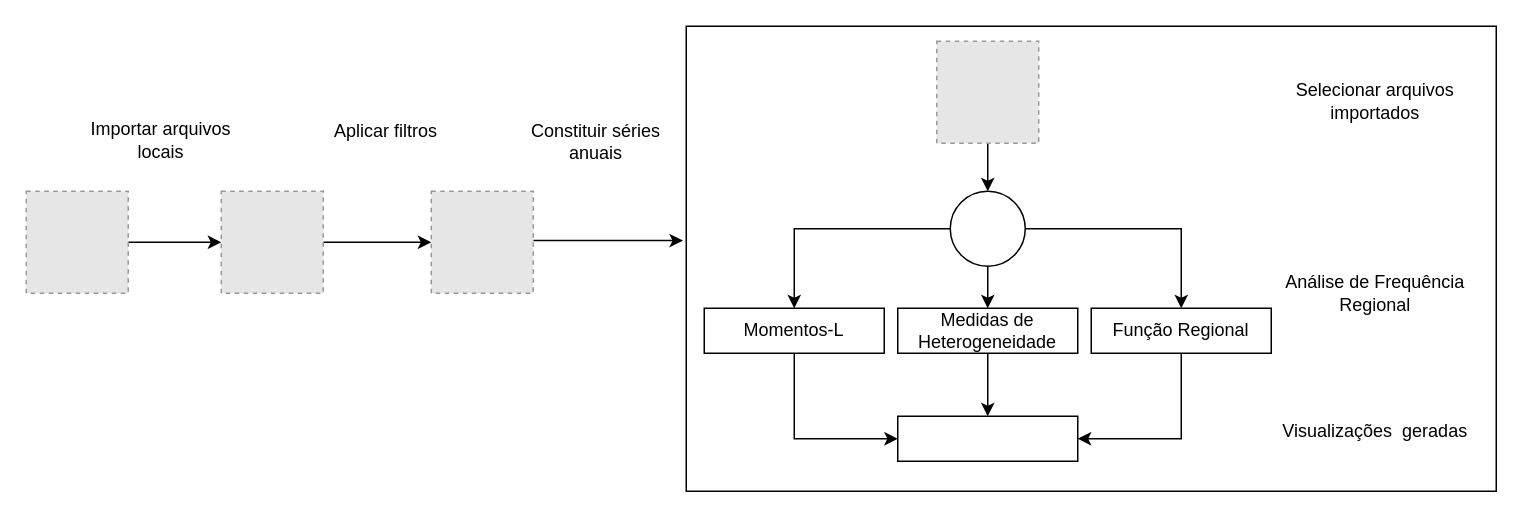
This 1523x518 diagram has some shape labels left out. Grey dashed boxes stand in for pictures. Each missing label, with the centre of its shape:
fn: the point at 987,228
Output: the point at 987,438
